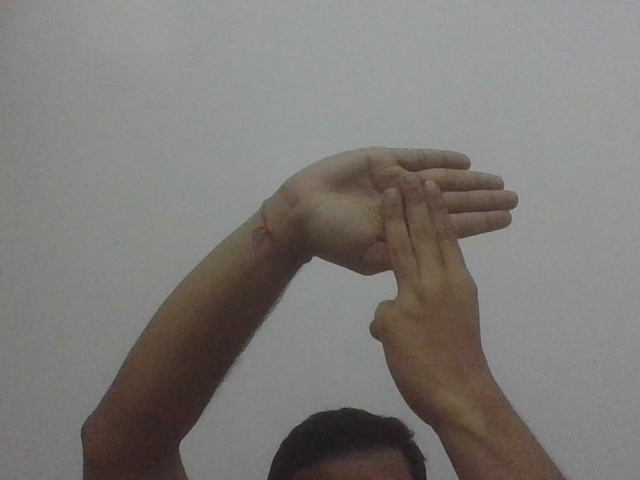M: (301, 145, 526, 327)
